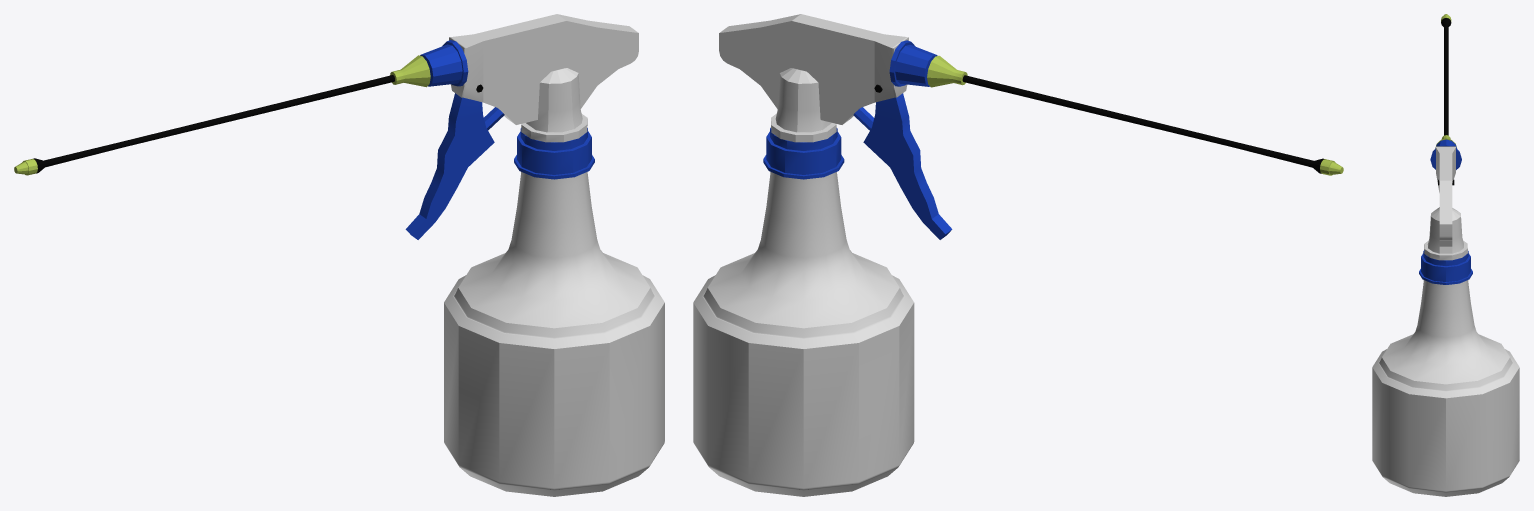
The model's file is Spray_Bottle.fbx.
The picture shows the model from 3 angles, left to right: view 1: azimuth 30°, elevation 25°; view 2: azimuth 150°, elevation 25°; view 3: azimuth 270°, elevation 25°; orthographic projection. The views are drawn at different scales.
Parts seen in each view (by area): view 1: polySurface117, Spray_Bottle, polySurface122, polySurface119; view 2: polySurface117, Spray_Bottle, polySurface122, polySurface119; view 3: polySurface117, Spray_Bottle, polySurface119.
Boxes of the visible parts, x1=… form: polySurface117: x1=444, y1=172, x2=664, y2=496; Spray_Bottle: x1=14, y1=14, x2=638, y2=175; polySurface122: x1=405, y1=93, x2=494, y2=239; polySurface119: x1=514, y1=128, x2=594, y2=179; polySurface117: x1=693, y1=172, x2=914, y2=496; Spray_Bottle: x1=719, y1=14, x2=1343, y2=175; polySurface122: x1=863, y1=93, x2=952, y2=239; polySurface119: x1=763, y1=127, x2=844, y2=179; polySurface117: x1=1372, y1=280, x2=1519, y2=496; Spray_Bottle: x1=1424, y1=14, x2=1467, y2=260; polySurface119: x1=1419, y1=250, x2=1472, y2=284.
Size of the model in its own units: 64.05 by 42.32 by 19.33.
